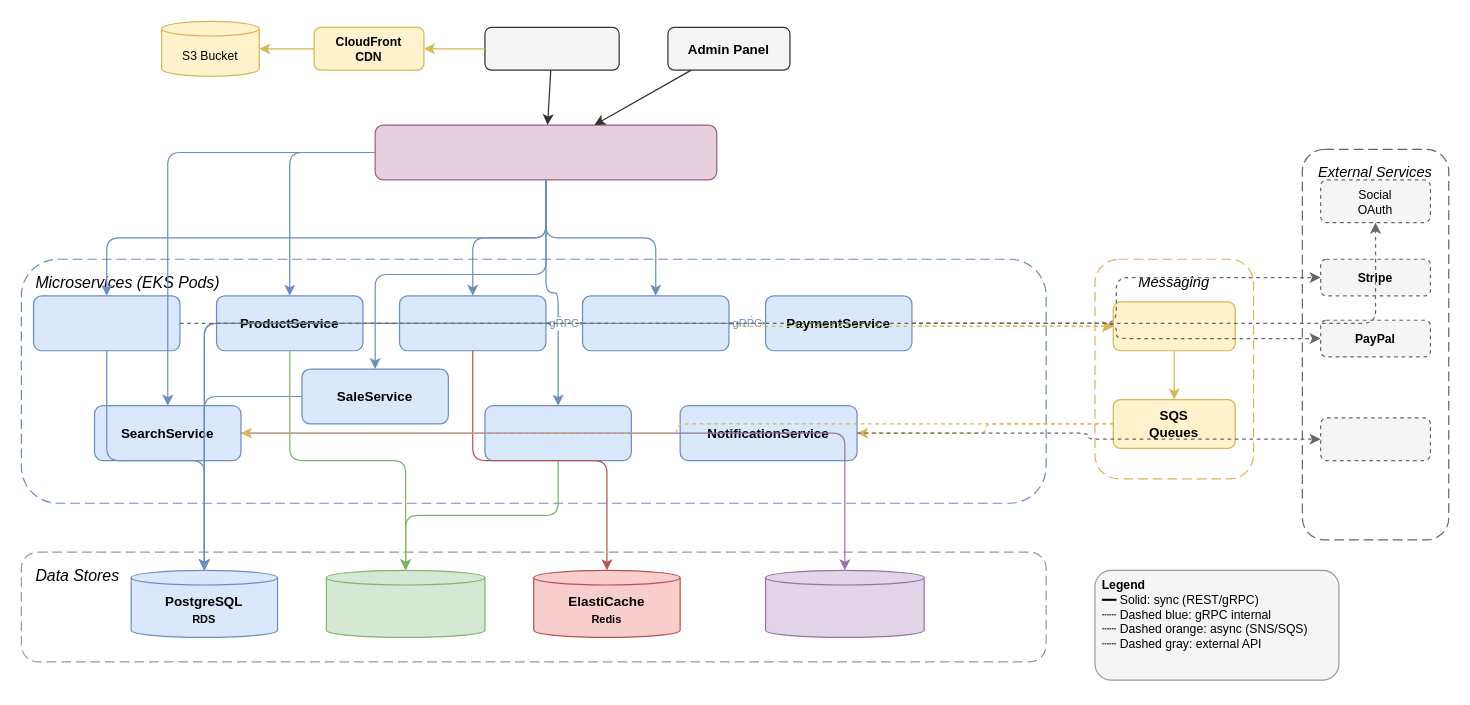
The diagram is 1470 pixels wide and 705 high, and some of its shapes have lost their labels. The centre of each missing label's shape, as x and y in pixels:
"Amazon SES" goes at pixel 1374 439.
"CartService" goes at pixel 472 323.
"DocumentDB MongoDB" goes at pixel 405 603.
"Elasticsearch" goes at pixel 844 603.
"Nginx Ingress Controller SSL · Rate Limiting · Path Routing" goes at pixel 545 152.
"OrderService" goes at pixel 655 323.
"ReviewService" goes at pixel 557 432.
"SNS Topics" goes at pixel 1173 326.
"UserService" goes at pixel 106 323.
"Web Browser" goes at pixel 551 48.
